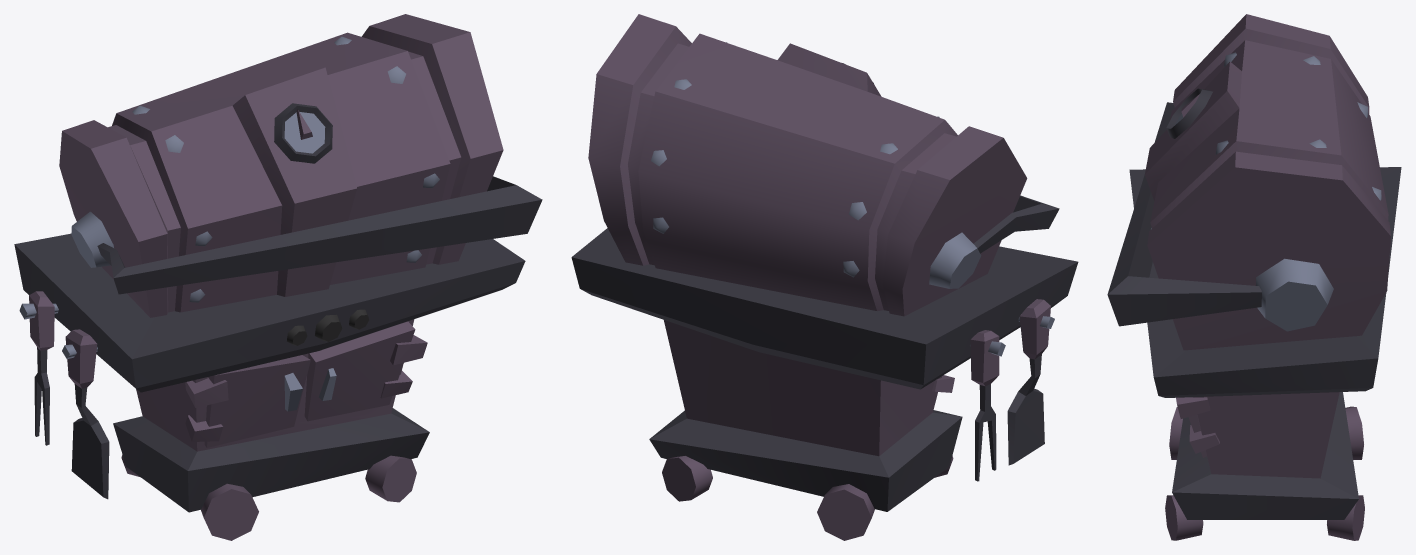
The model's file is Throwable_BBQ_Grill.fbx.
The picture shows the model from 3 angles, left to right: view 1: azimuth 30°, elevation 25°; view 2: azimuth 150°, elevation 25°; view 3: azimuth 270°, elevation 25°; orthographic projection.
Parts seen in each view (by area): view 1: Throwable_BBQ_Grill; view 2: Throwable_BBQ_Grill; view 3: Throwable_BBQ_Grill.
Part boxes in pixels (x1,y1,x2,y2): Throwable_BBQ_Grill: (14, 14, 542, 540); Throwable_BBQ_Grill: (571, 14, 1078, 540); Throwable_BBQ_Grill: (1107, 14, 1401, 540).
Size of the model in its own units: 2.31 by 2.21 by 1.38.
